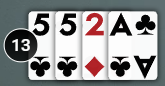2: (81, 11, 107, 39)
5: (28, 11, 54, 38), (55, 11, 79, 38)
a: (108, 11, 135, 39)
